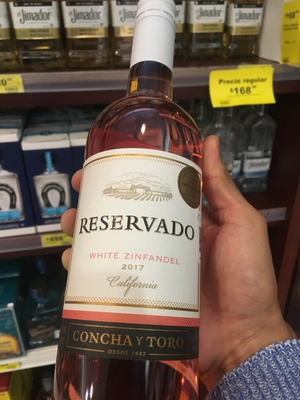reservado white zinfandel: (59, 5, 222, 400)
